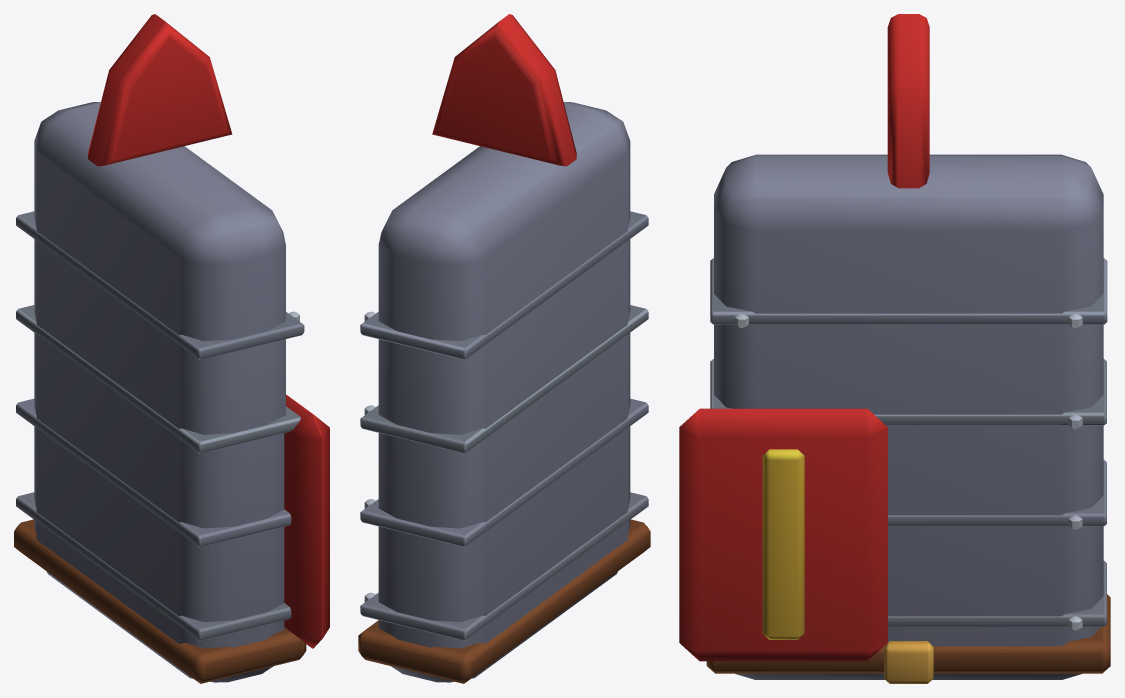
File: SM_Costume_FoamKnight.fbx
3 views of the same model, side by side, from view 1: azimuth 30°, elevation 25°; view 2: azimuth 150°, elevation 25°; view 3: azimuth 270°, elevation 25° (orthographic). The views are drawn at different scales.
Visible parts, largest first — view 1: SM_Costume_FoamKnight; view 2: SM_Costume_FoamKnight; view 3: SM_Costume_FoamKnight.
Boxes of the visible parts, x1,y1,x2,y2 form: SM_Costume_FoamKnight: (14,14,329,683); SM_Costume_FoamKnight: (358,14,650,683); SM_Costume_FoamKnight: (679,14,1110,683).
Bounding box in the file's own units: 26.55 × 104 × 62.08.
